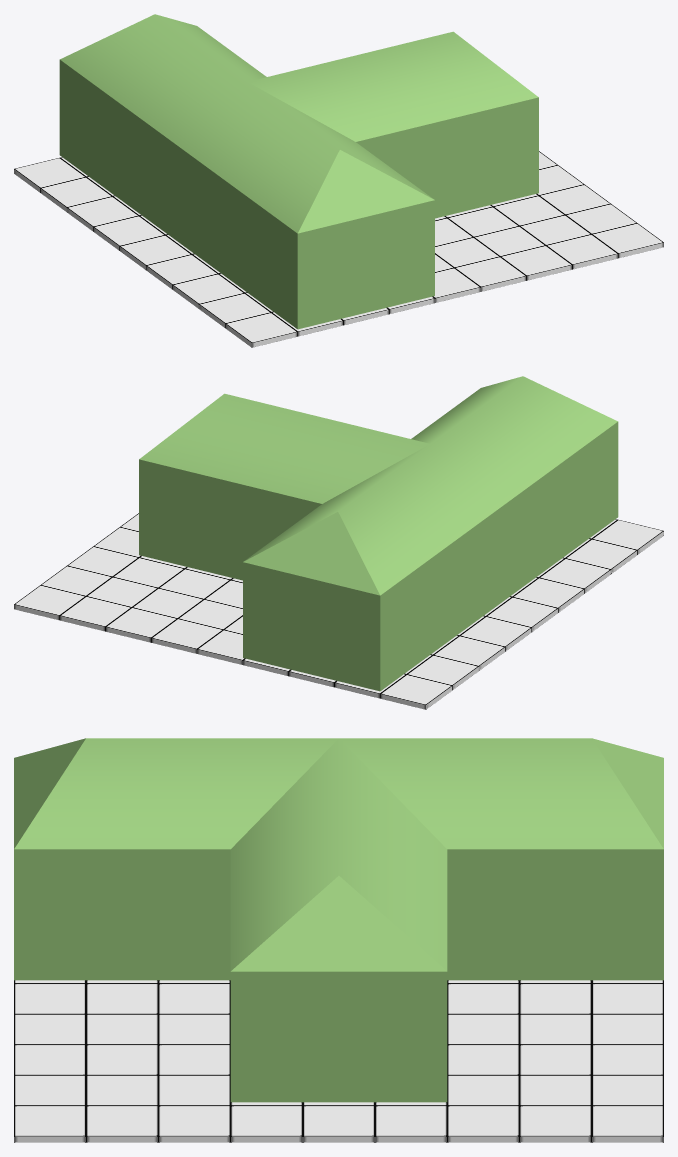
Rendered from XG_Library.glb.
3 views of the same model, one above another, from view 1: azimuth 30°, elevation 25°; view 2: azimuth 150°, elevation 25°; view 3: azimuth 270°, elevation 25° (orthographic). The views are drawn at different scales.
Visible parts, largest first — view 1: building_9m_3m_002, building_5m_3m_002, 1m_base_block_788, 1m_base_block_781, 1m_base_block_786, 1m_base_block_789, 1m_base_block_782, 1m_base_block_769, 1m_base_block_771, 1m_base_block_797, 1m_base_block_770, 1m_base_block_772 (+13 smaller); view 2: building_9m_3m_002, building_5m_3m_002, 1m_base_block_797, 1m_base_block_790, 1m_base_block_795, 1m_base_block_791, 1m_base_block_798, 1m_base_block_769, 1m_base_block_767, 1m_base_block_788, 1m_base_block_768, 1m_base_block_773 (+13 smaller); view 3: building_9m_3m_002, building_5m_3m_002, 1m_base_block_774, 1m_base_block_778, 1m_base_block_775, 1m_base_block_777, 1m_base_block_779, 1m_base_block_780, 1m_base_block_789, 1m_base_block_798, 1m_base_block_776, 1m_base_block_718 (+23 smaller).
Part boxes in pixels (<box>): building_9m_3m_002: <box>59,14,434,329</box>; building_5m_3m_002: <box>248,31,538,218</box>; 1m_base_block_788: <box>225,312,297,347</box>; 1m_base_block_781: <box>500,245,572,280</box>; 1m_base_block_786: <box>546,234,618,269</box>; 1m_base_block_789: <box>592,223,663,258</box>; 1m_base_block_782: <box>454,257,526,291</box>; 1m_base_block_769: <box>119,235,191,269</box>; 1m_base_block_771: <box>172,274,244,308</box>; 1m_base_block_797: <box>14,157,85,192</box>; 1m_base_block_770: <box>146,254,217,289</box>; 1m_base_block_772: <box>40,177,112,211</box>; building_9m_3m_002: <box>243,376,618,691</box>; building_5m_3m_002: <box>139,393,429,580</box>; 1m_base_block_797: <box>380,674,452,709</box>; 1m_base_block_790: <box>105,607,177,642</box>; 1m_base_block_795: <box>59,596,131,631</box>; 1m_base_block_791: <box>151,618,223,653</box>; 1m_base_block_798: <box>14,585,85,620</box>; 1m_base_block_769: <box>486,597,558,631</box>; 1m_base_block_767: <box>433,636,505,670</box>; 1m_base_block_788: <box>592,519,663,554</box>; 1m_base_block_768: <box>460,616,531,651</box>; 1m_base_block_773: <box>565,539,637,573</box>; building_9m_3m_002: <box>14,738,663,980</box>; building_5m_3m_002: <box>230,738,447,1102</box>; 1m_base_block_774: <box>447,1105,519,1142</box>; 1m_base_block_778: <box>158,1105,230,1142</box>; 1m_base_block_775: <box>375,1105,447,1142</box>; 1m_base_block_777: <box>230,1105,302,1142</box>; 1m_base_block_779: <box>519,1105,591,1142</box>; 1m_base_block_780: <box>86,1105,158,1142</box>; 1m_base_block_789: <box>14,1105,86,1142</box>; 1m_base_block_798: <box>591,1105,663,1142</box>; 1m_base_block_776: <box>303,1105,374,1142</box>; 1m_base_block_718: <box>447,1044,519,1075</box>.
Size of the model in its own units: 9 by 3.15 by 9.
Materials: 2 (1 with a texture image).
